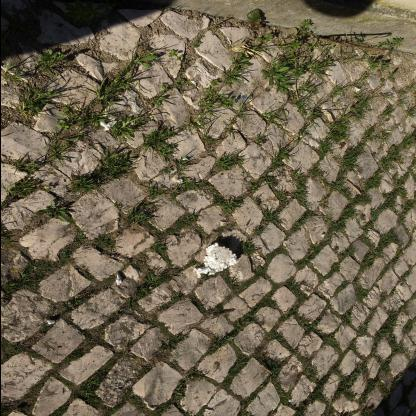kopuk: (196, 243, 242, 279)
